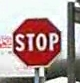stop: (12, 15, 60, 67)
